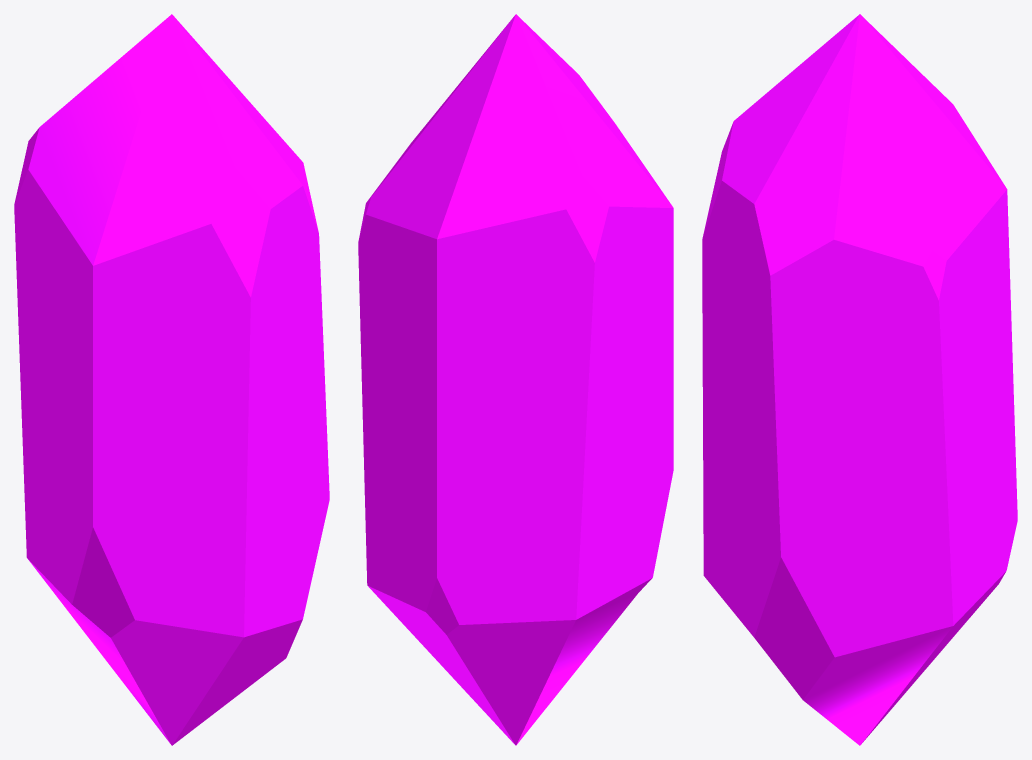
The model's file is gem01.fbx.
3 renders of one model, left to right at view 1: azimuth 30°, elevation 25°; view 2: azimuth 150°, elevation 25°; view 3: azimuth 270°, elevation 25°, orthographic.
Visible parts, largest first — view 1: GemFull; view 2: GemFull; view 3: GemFull.
Part boxes in pixels (x1,y1,x2,y2): GemFull: (14, 14, 329, 745); GemFull: (358, 14, 673, 745); GemFull: (702, 14, 1017, 745).
Size of the model in its own units: 83.88 by 248 by 96.86.
